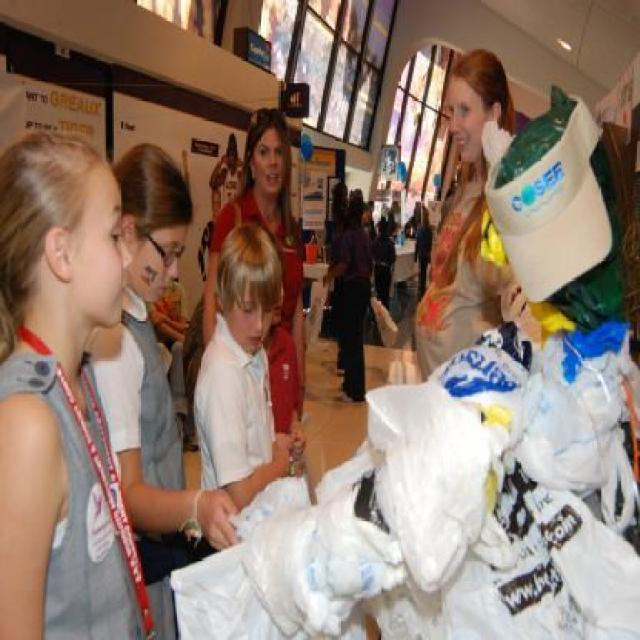plastic bag: (167, 83, 640, 638)
